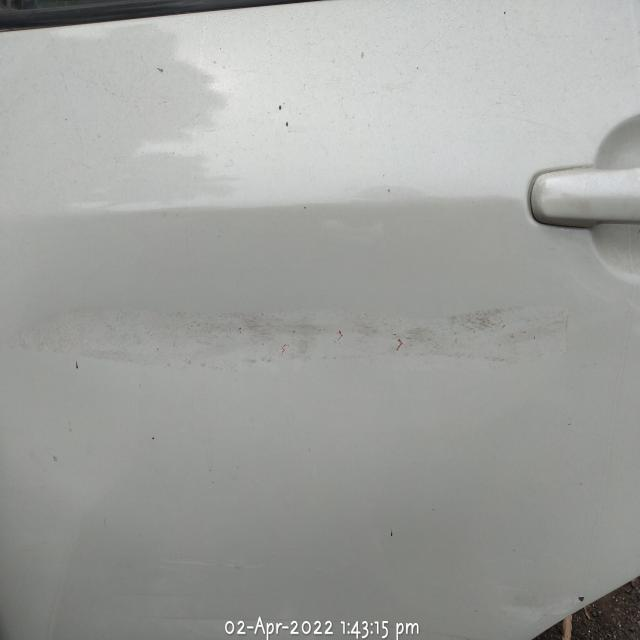damage: (79, 269, 563, 404)
